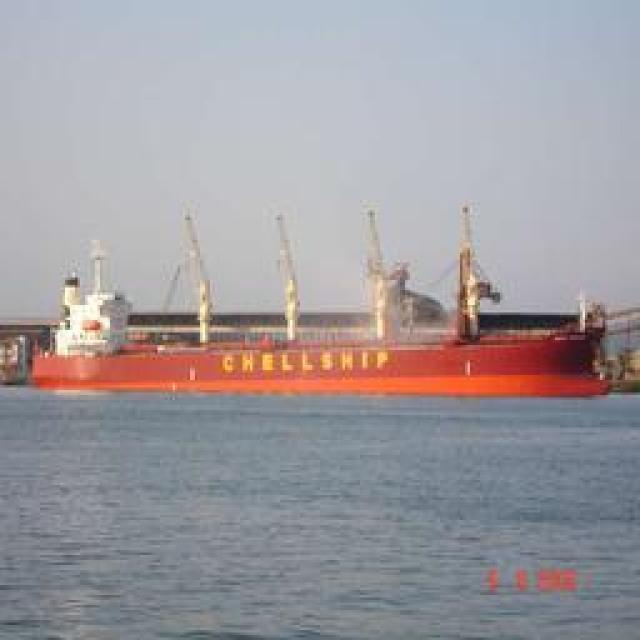ship2: (29, 199, 612, 397)
